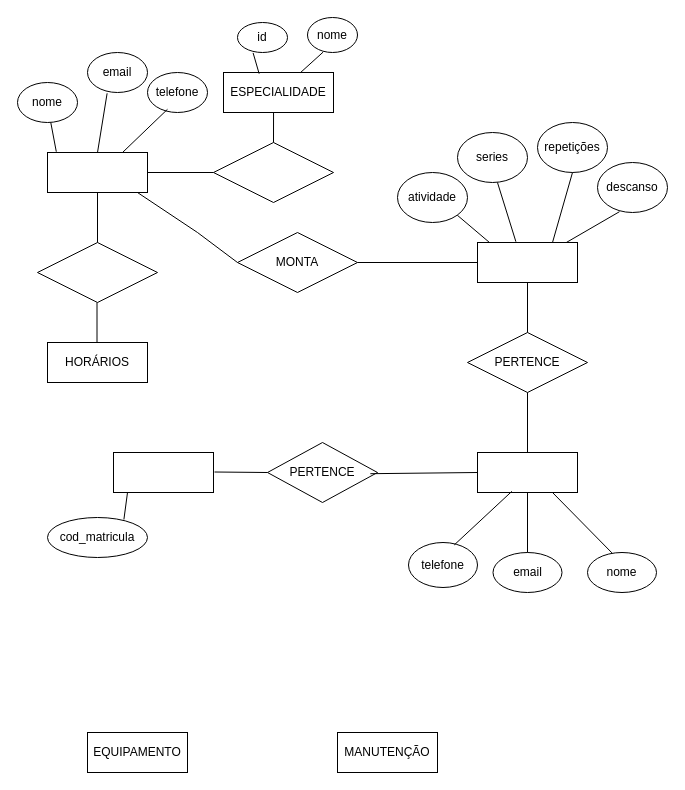
Some shapes in this 685 by 790 pixel diagram are drawn without their labels. Each missing label, with the centre of its shape:
CLIENTE: point 527,472
CONTEM: point 97,272
INSTRUTOR: point 97,172
MATRICULA: point 163,472
TEM: point 273,172
TREINO: point 527,262
